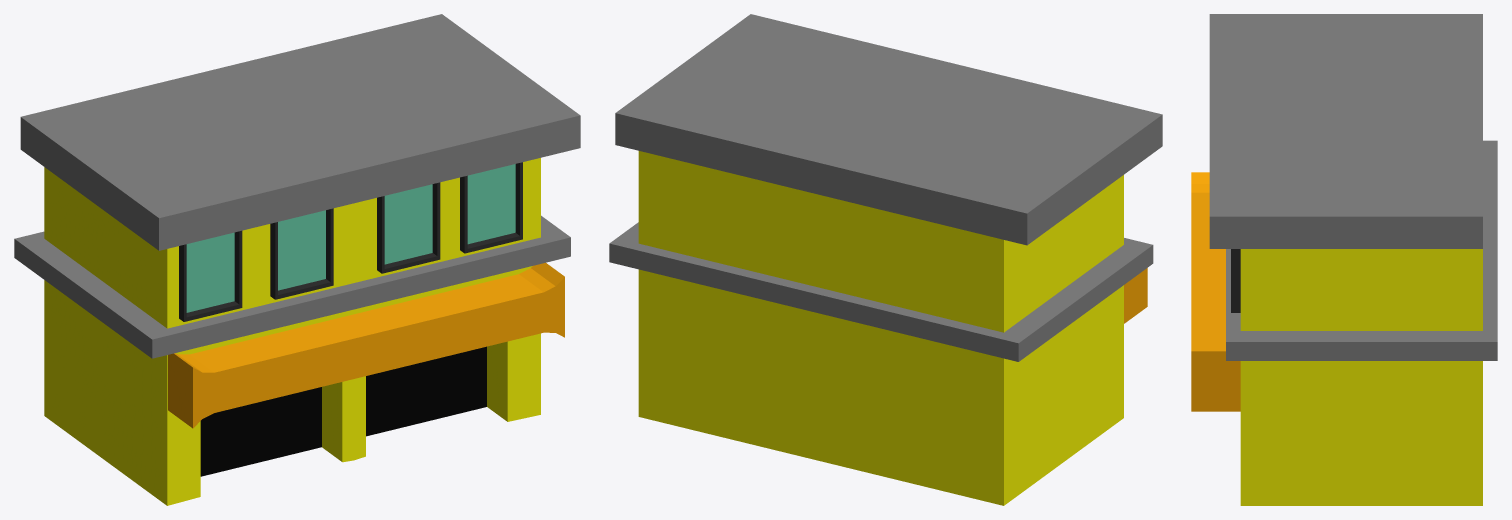
The model's file is PredioGenericoEscalavelAmarelo.fbx.
The picture shows the model from 3 angles, left to right: view 1: azimuth 30°, elevation 25°; view 2: azimuth 150°, elevation 25°; view 3: azimuth 270°, elevation 25°; orthographic projection. The views are drawn at different scales.
Parts seen in each view (by area): view 1: LojaGenericaEscalavel; view 2: LojaGenericaEscalavel; view 3: LojaGenericaEscalavel.
Boxes of the visible parts, x1,y1,x2,y2 form: LojaGenericaEscalavel: (14,14,580,505); LojaGenericaEscalavel: (609,14,1162,505); LojaGenericaEscalavel: (1191,14,1497,505).
Bounding box in the file's own units: 1095 × 757 × 699.
Materials: 1 (1 with a texture image).
